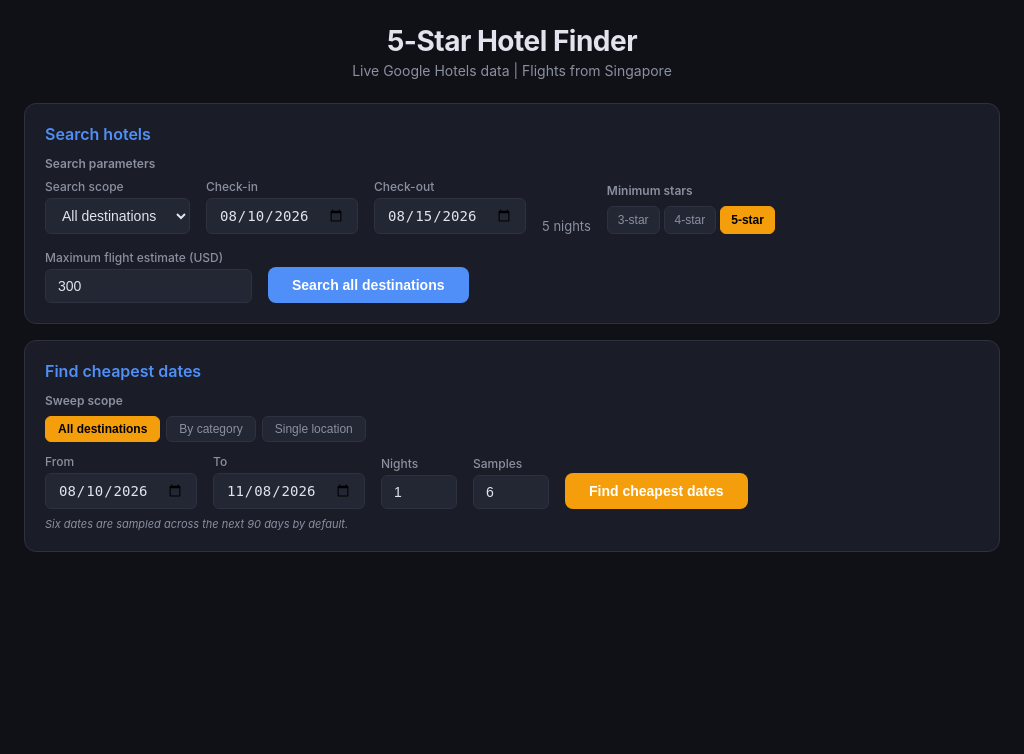
Test: latest search and comparison ownership › deduplicates warning fields by semantic identity before rendering stable keys
Expected: the button "Find cheapest dates" is enabled, [565,473,748,509]
Click the button "Search all destinations" at {"x": 368, "y": 285}, box [268,267,468,303]
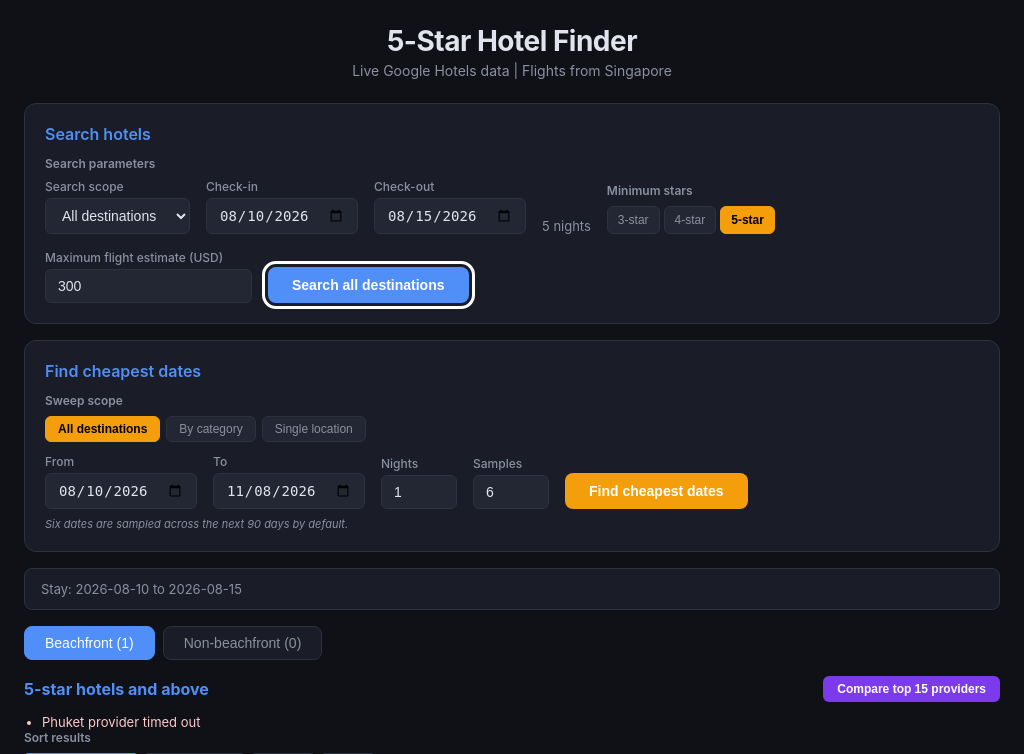
Expected: the number of list items is 1, [42,714,200,730]
Expected: the list named "Search warnings" reads "Phuket provider timed out", [42,714,200,730]
